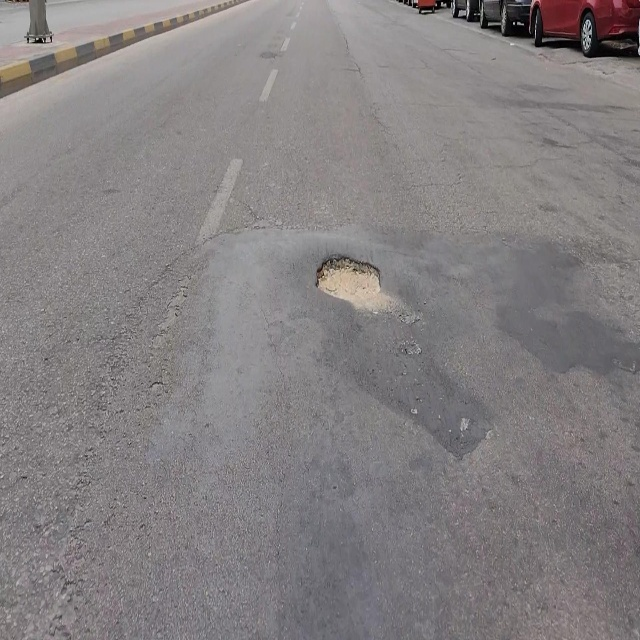pothole: (314, 249, 383, 312)
